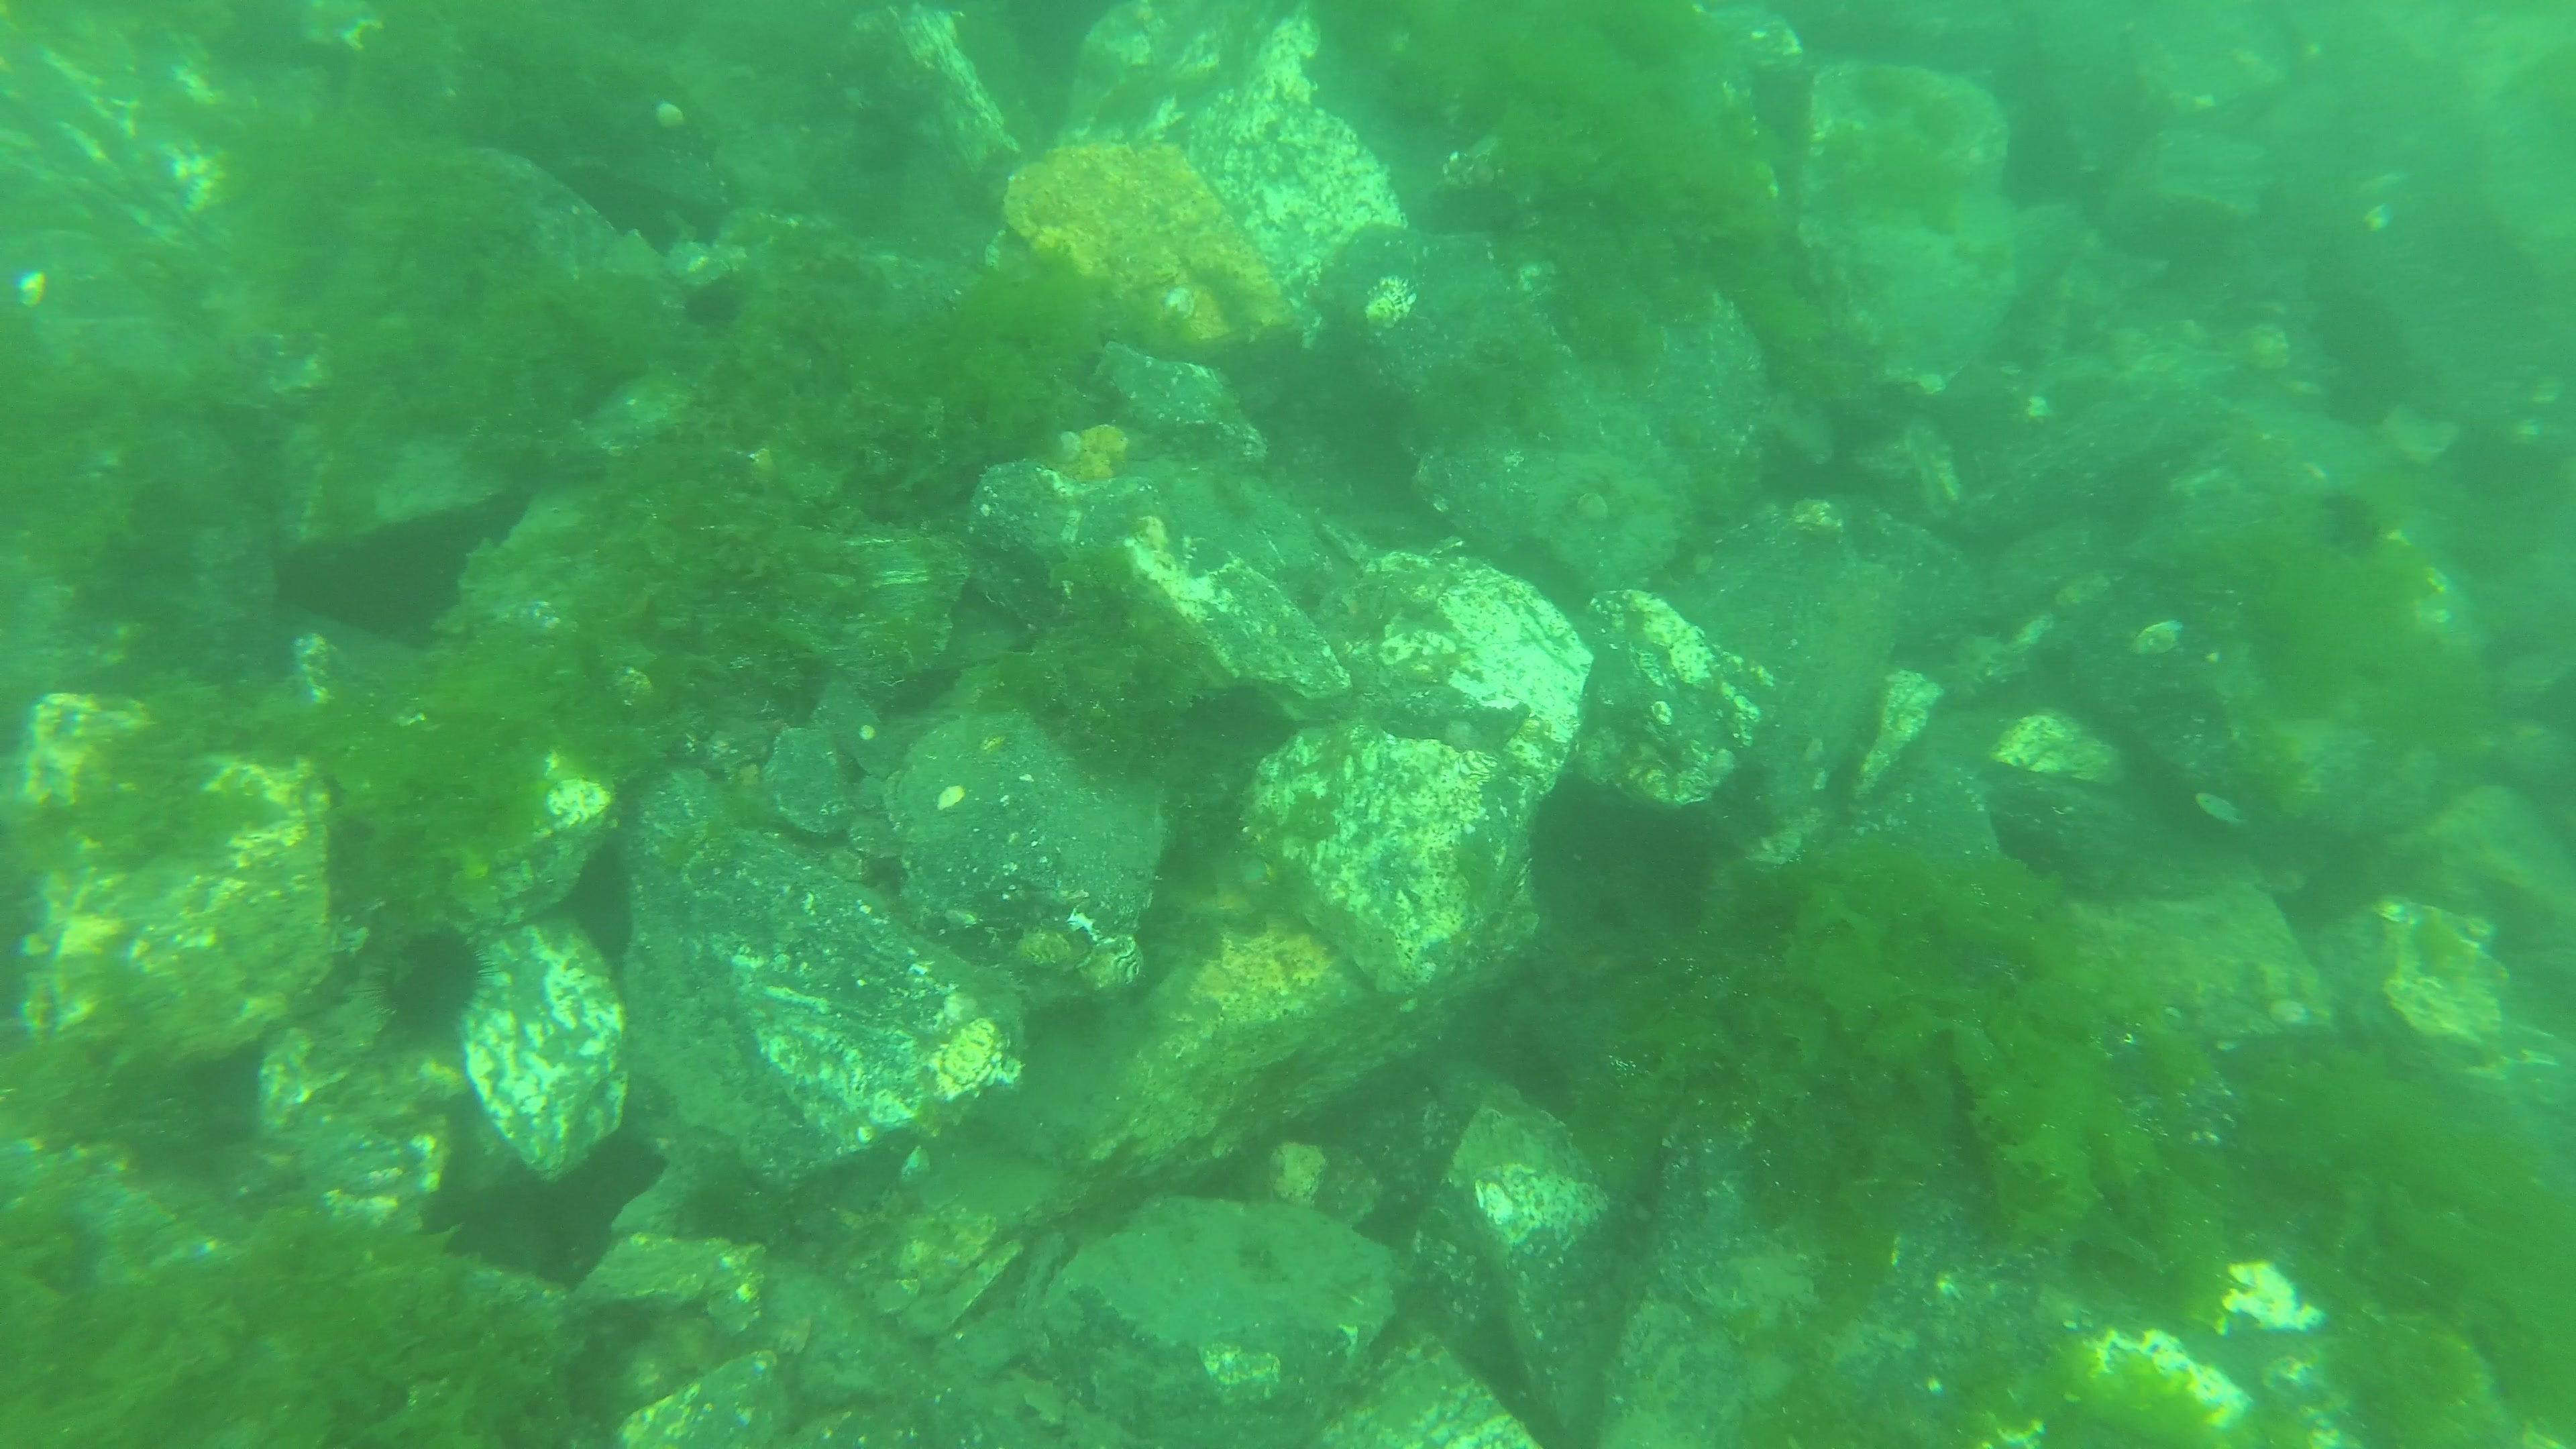echinus: (375, 927, 488, 1040), (674, 260, 750, 341), (2311, 487, 2387, 561)
